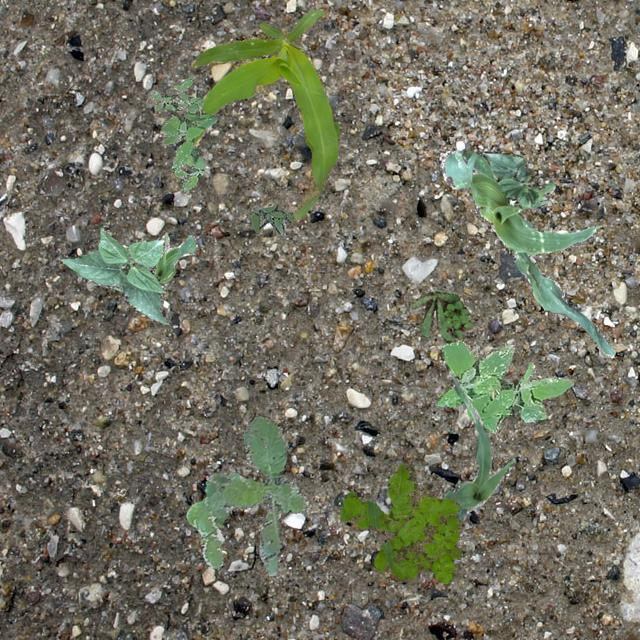crop: (440, 148, 614, 356), (190, 8, 338, 220), (442, 374, 516, 522), (60, 225, 168, 322), (482, 150, 554, 208), (154, 234, 196, 282)
weed: (185, 414, 308, 574), (340, 462, 460, 582), (436, 339, 574, 432), (150, 76, 216, 192), (408, 290, 470, 342), (250, 204, 294, 232)
